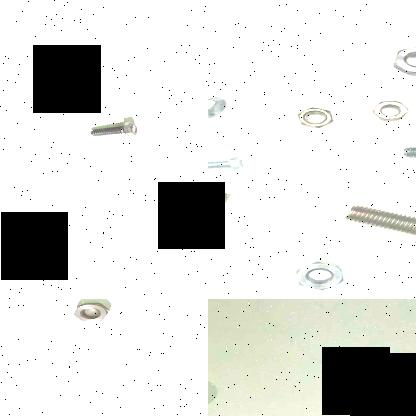Bolts: (343, 200, 416, 248), (208, 185, 236, 245), (86, 113, 140, 144), (208, 89, 234, 123), (208, 153, 252, 172), (395, 135, 416, 170)
NUTS: (288, 257, 349, 290), (293, 104, 337, 132), (368, 98, 416, 122), (388, 41, 416, 77), (70, 300, 115, 322)
